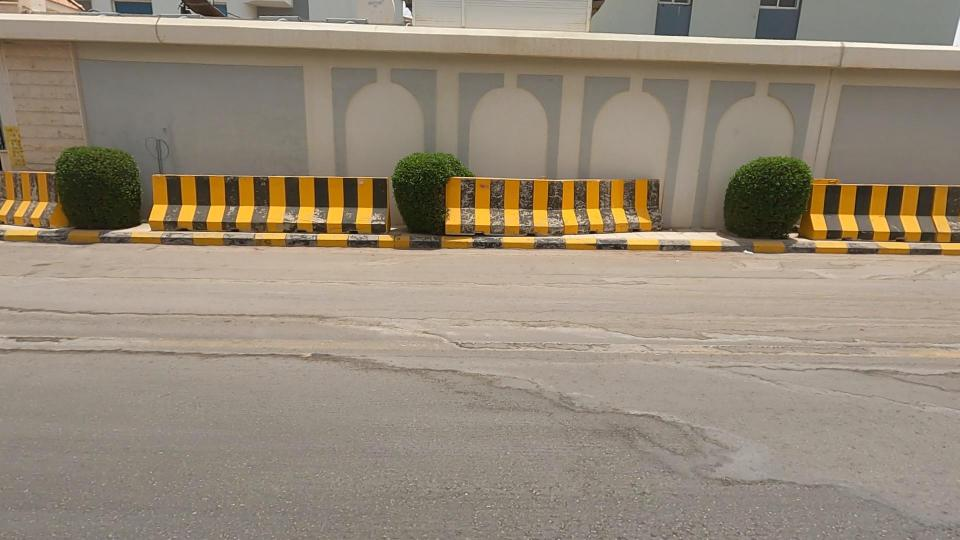GARBAGE: (707, 224, 775, 287)
